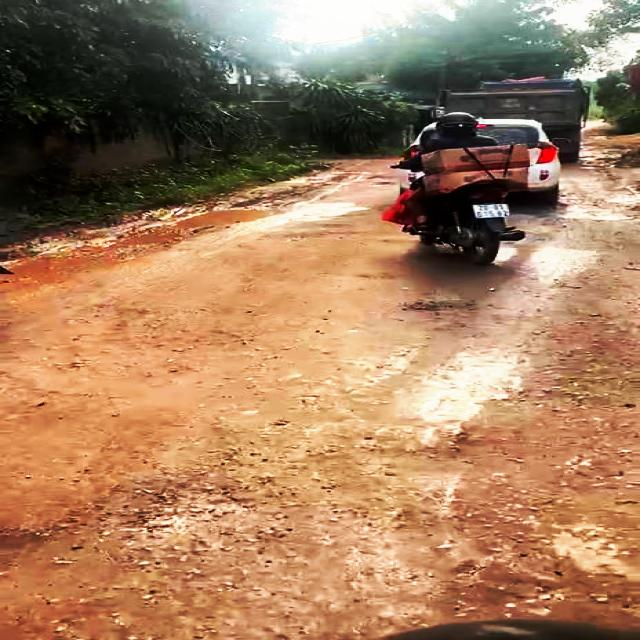pothole: (0, 484, 273, 614), (113, 199, 286, 250)
